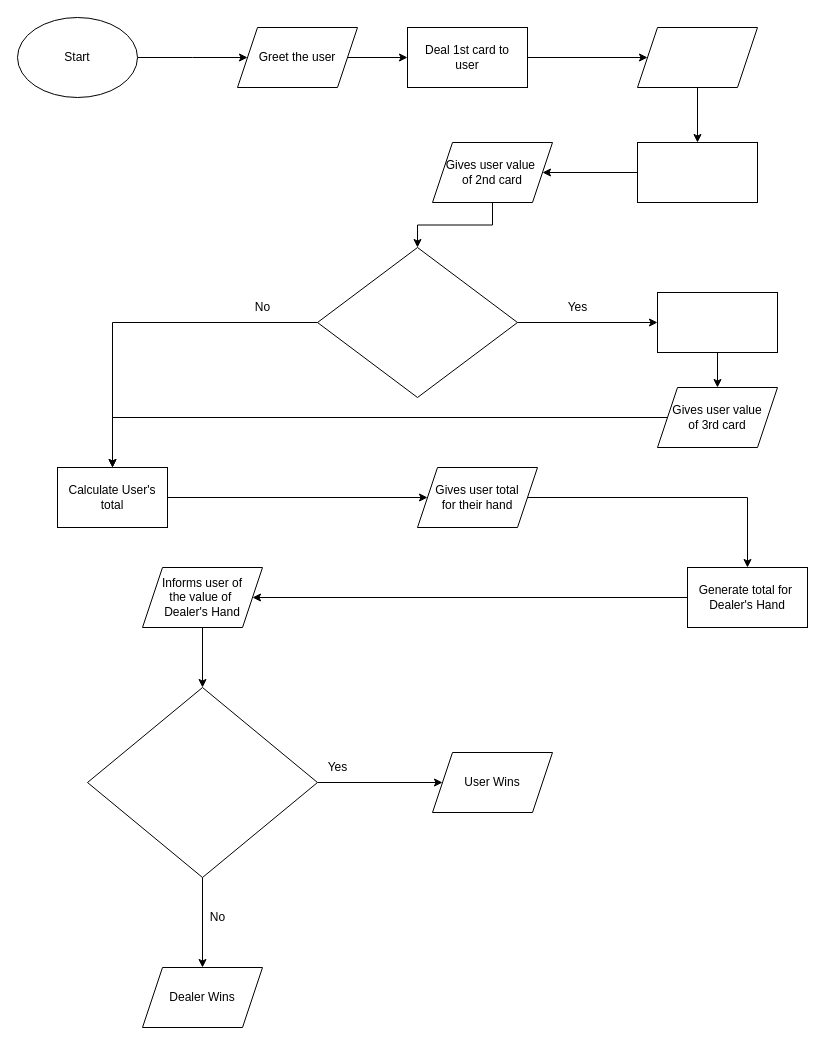
The diagram is 825 pixels wide and 1045 high, and some of its shapes have lost their labels. Here are the shapes that lost their labels. From the top down, the box of each, then its label:
(636, 26, 758, 88): Gives user value of 1st card
(636, 142, 758, 202): Deal 2nd card to user
(316, 246, 518, 398): Would you like a 3rd card?
(656, 292, 778, 352): Deal 3rd card to user
(86, 686, 318, 878): User's Hand > Dealer's Hand AND User's Hand <= 21
